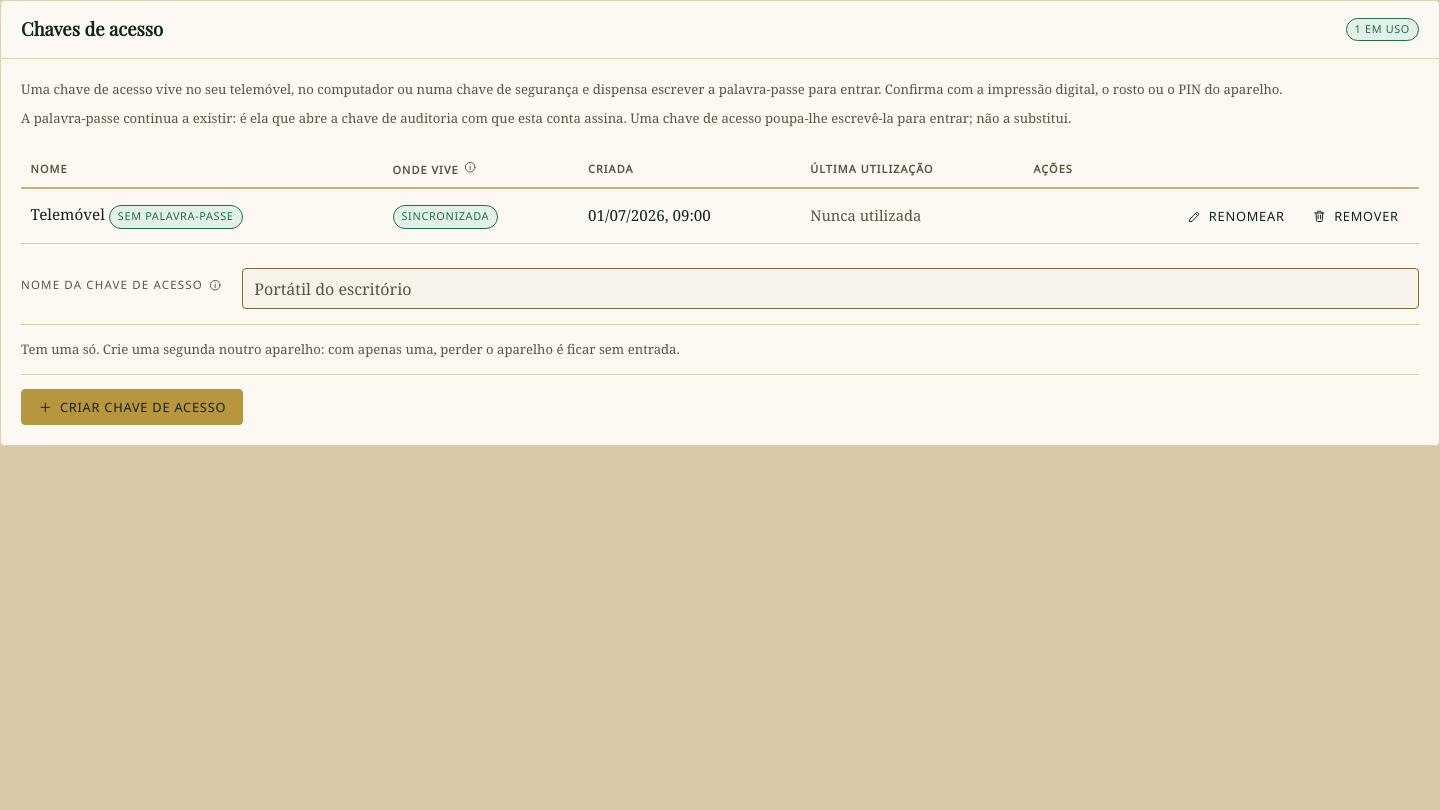
Scenario: PasskeySection — enrolment and rename › says «sem palavra-passe» when the PRF wrap completes at enrolment
Step 1. Click the button "Criar chave de acesso" → (132, 407), box left=21, top=389, right=243, bottom=425
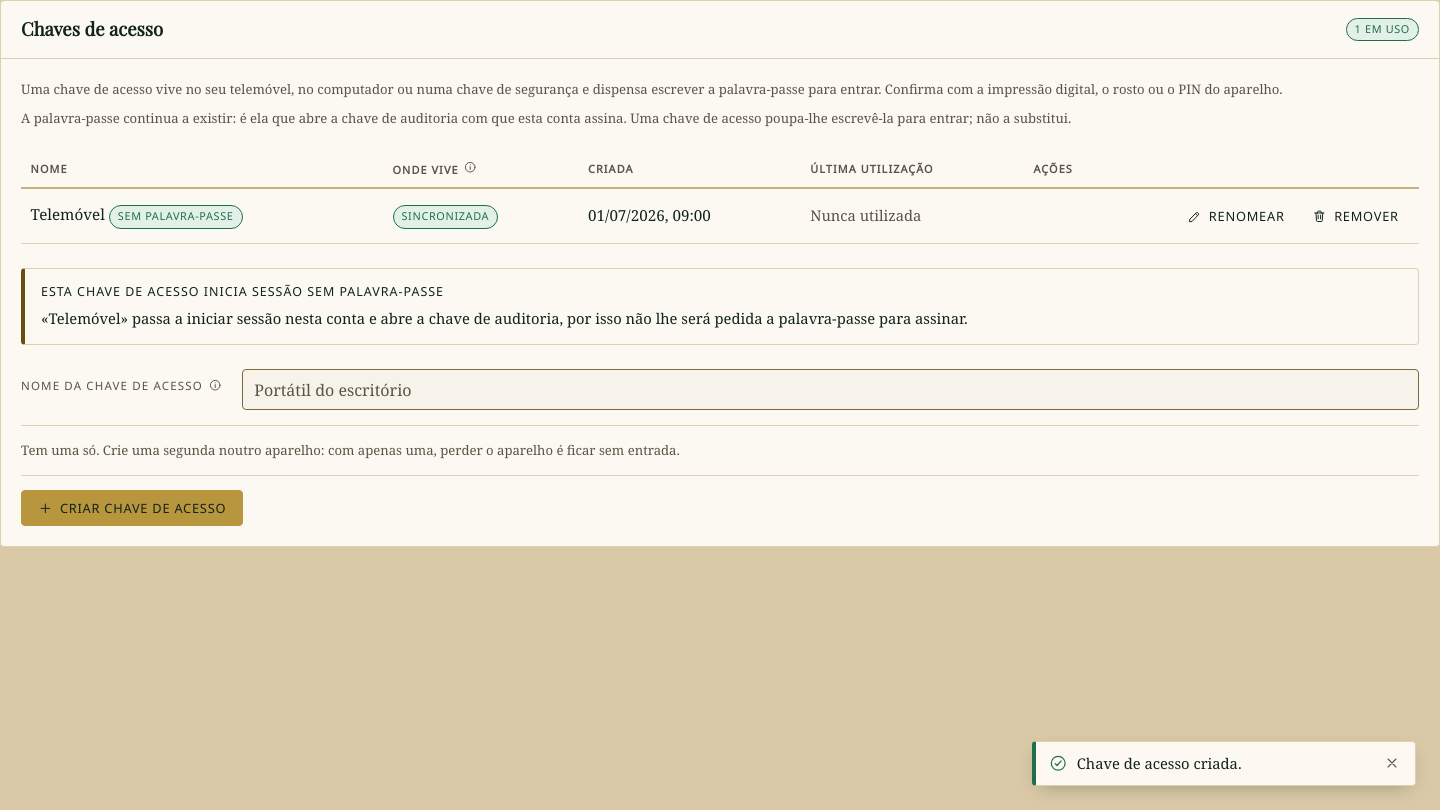
Check: the text "Esta chave de acesso inicia sessão sem palavra-passe" is shown, box left=41, top=283, right=444, bottom=300
